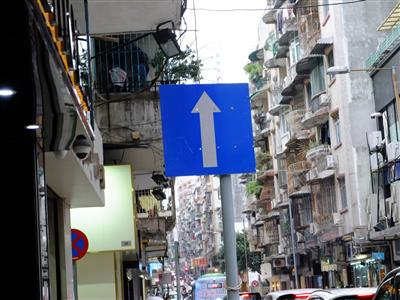oneway: (149, 72, 264, 180)
